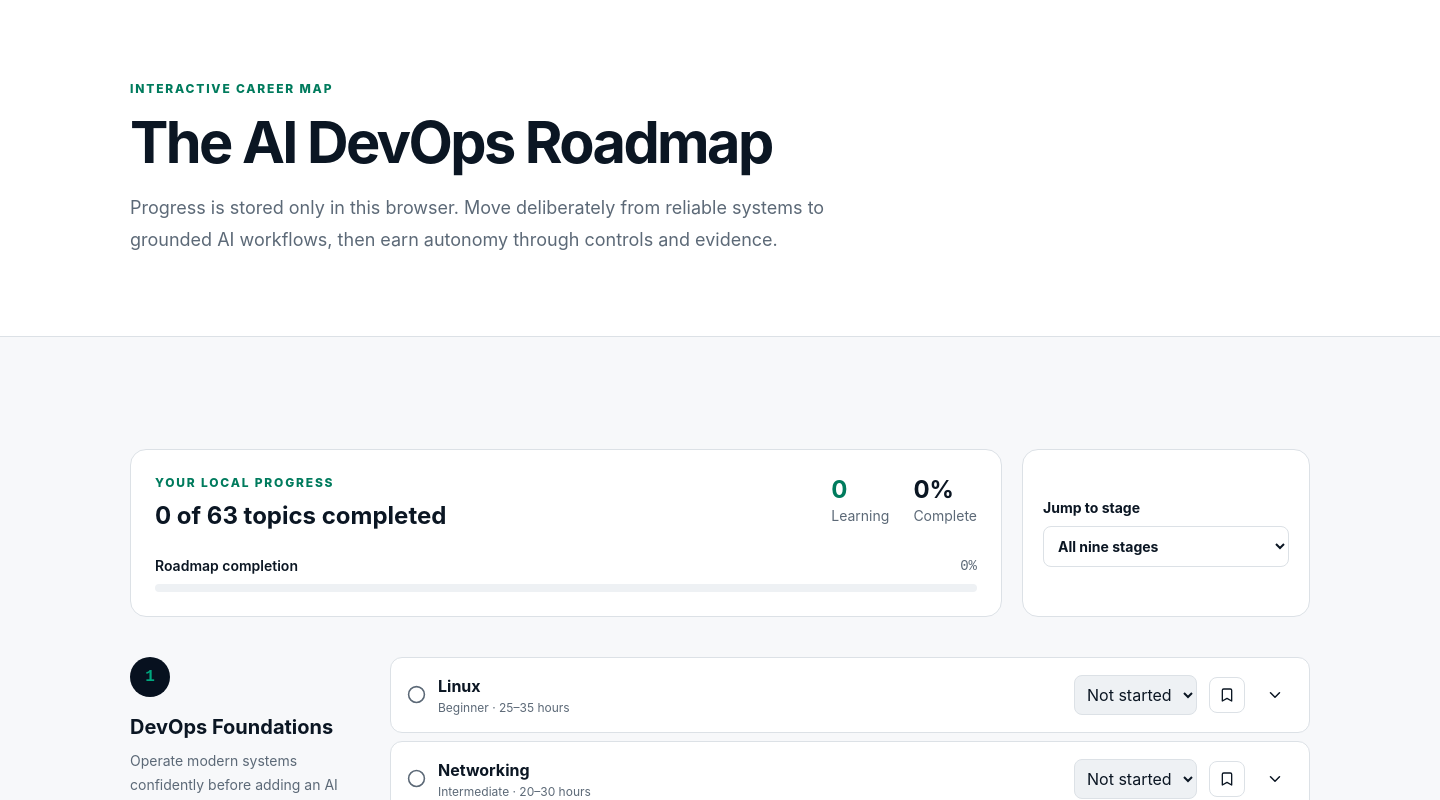
Test: local interactions › persists roadmap progress
Select "Completed" in the dropdown named "Progress for Linux" at (1136, 695), box x1=1074 y1=675 x2=1197 y2=715
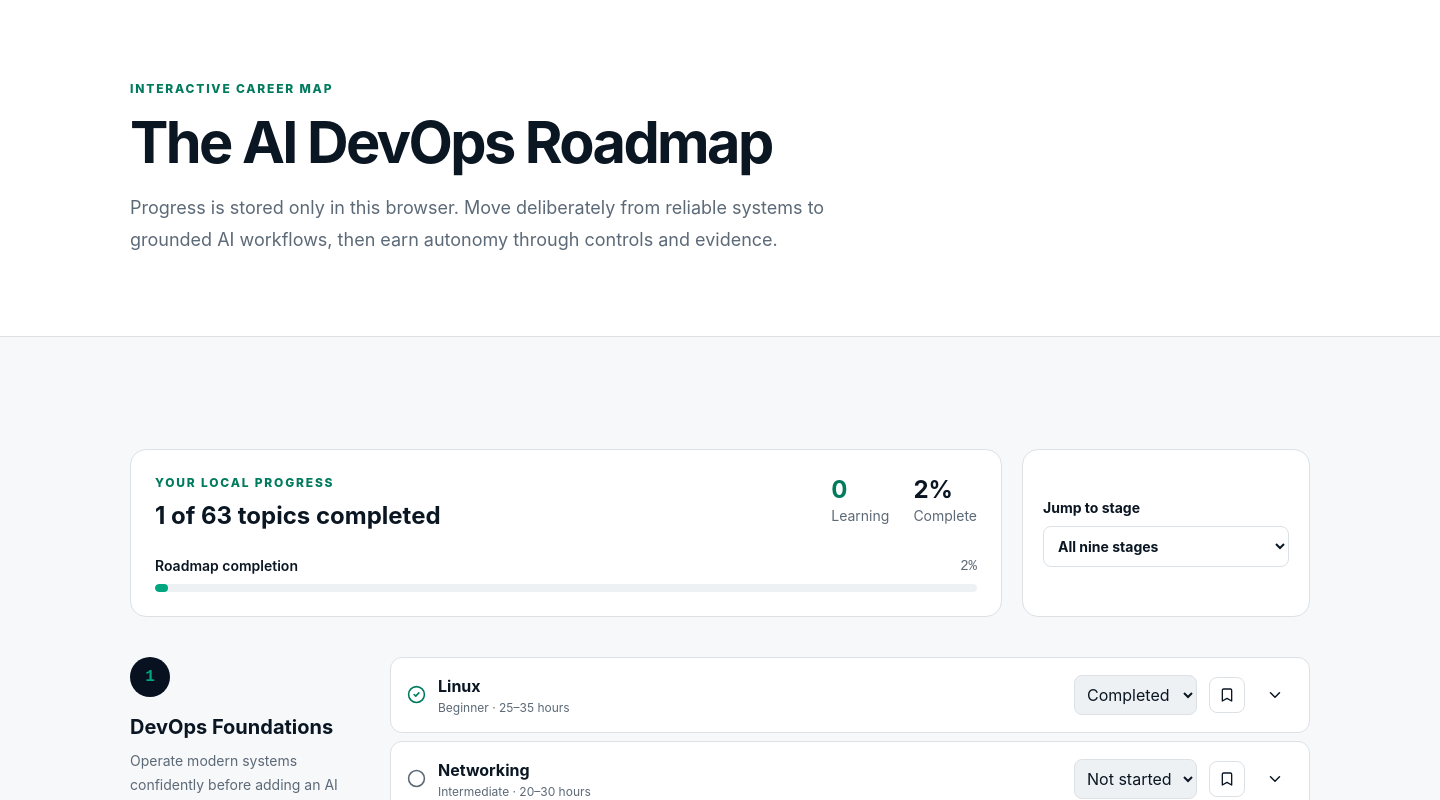
Check: the heading "1 of 63 topics completed" is shown, box x1=155 y1=501 x2=441 y2=530
